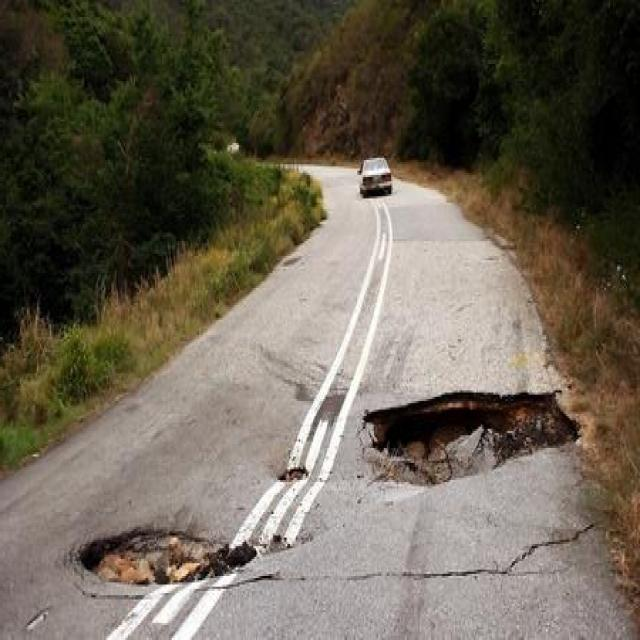Pothole: (361, 381, 587, 490), (71, 521, 260, 592), (274, 462, 314, 486)
